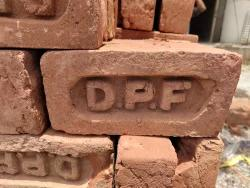brick: (40, 52, 242, 137), (1, 0, 98, 48), (1, 142, 113, 181), (1, 52, 39, 135), (116, 158, 172, 188), (160, 1, 193, 33), (122, 0, 154, 29)
